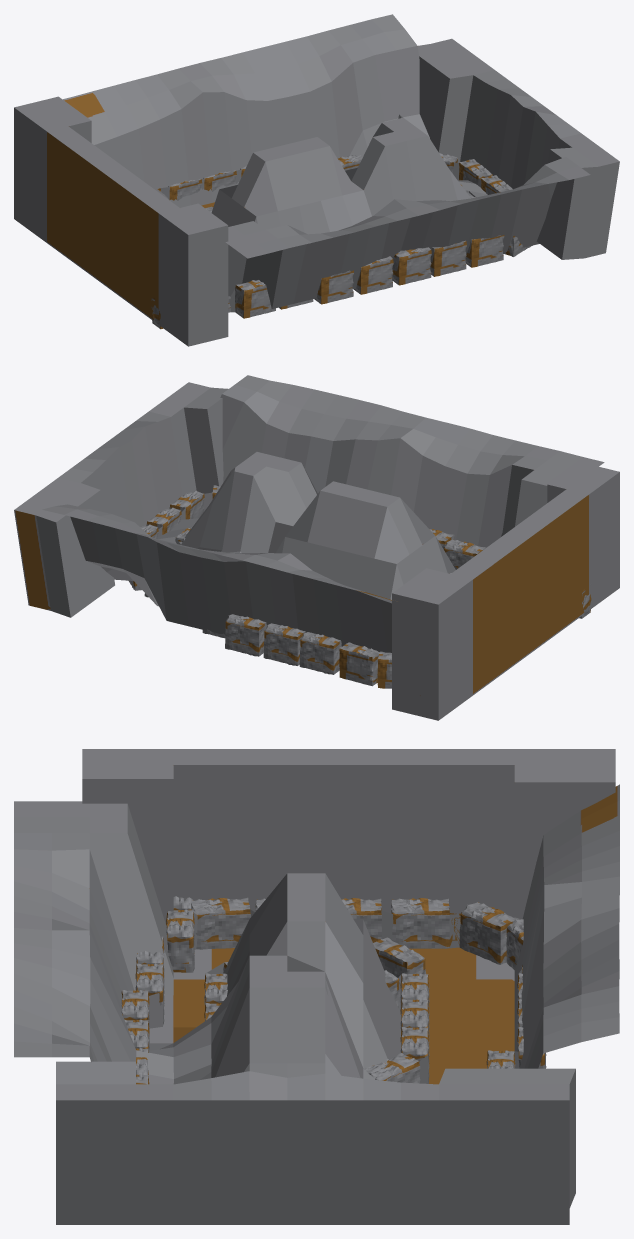
The model's file is Mountaintrack.fbx.
The picture shows the model from 3 angles, top to bottom: view 1: azimuth 30°, elevation 25°; view 2: azimuth 150°, elevation 25°; view 3: azimuth 270°, elevation 25°; orthographic projection. The views are drawn at different scales.
Parts seen in each view (by area): view 1: Cube.041; view 2: Cube.041; view 3: Cube.041.
Boxes of the visible parts, bbox=[...] form: Cube.041: bbox=[14, 14, 619, 346]; Cube.041: bbox=[14, 375, 619, 720]; Cube.041: bbox=[14, 749, 619, 1224].
Bounding box in the file's own units: 10346 × 2688 × 8380.
1 material, 1 textured.
